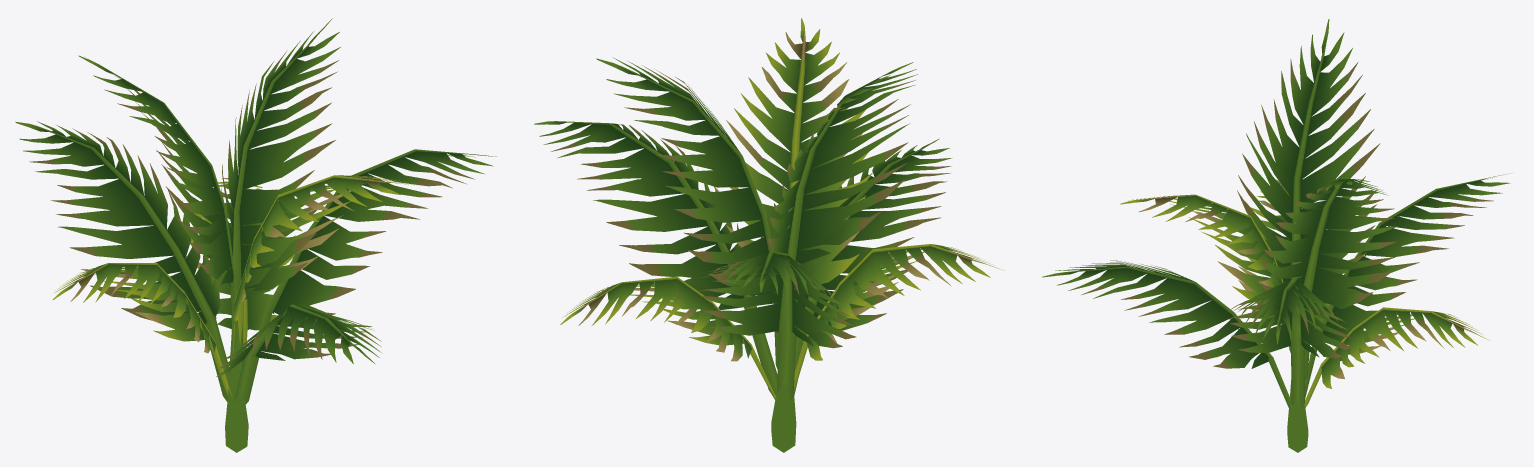
Rendered from SM_Env_Tree_Palm_Sapling_02.fbx.
The picture shows the model from 3 angles, left to right: view 1: azimuth 30°, elevation 25°; view 2: azimuth 150°, elevation 25°; view 3: azimuth 270°, elevation 25°; orthographic projection. The views are drawn at different scales.
Parts seen in each view (by area): view 1: SM_Env_Tree_Palm_Sapling_02_LOD0; view 2: SM_Env_Tree_Palm_Sapling_02_LOD0; view 3: SM_Env_Tree_Palm_Sapling_02_LOD0.
Boxes of the visible parts, left/top/right/bottom form: SM_Env_Tree_Palm_Sapling_02_LOD0: left=15, top=18, right=496, bottom=452; SM_Env_Tree_Palm_Sapling_02_LOD0: left=534, top=18, right=1004, bottom=452; SM_Env_Tree_Palm_Sapling_02_LOD0: left=1042, top=19, right=1510, bottom=452.
Size of what is drawn, in the model's own units: 214 by 191 by 221.
